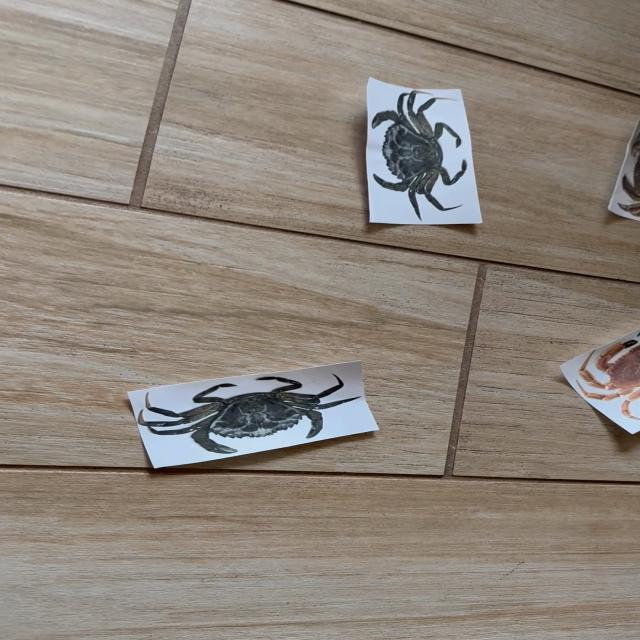egc: (138, 374, 359, 454), (372, 92, 466, 217)
